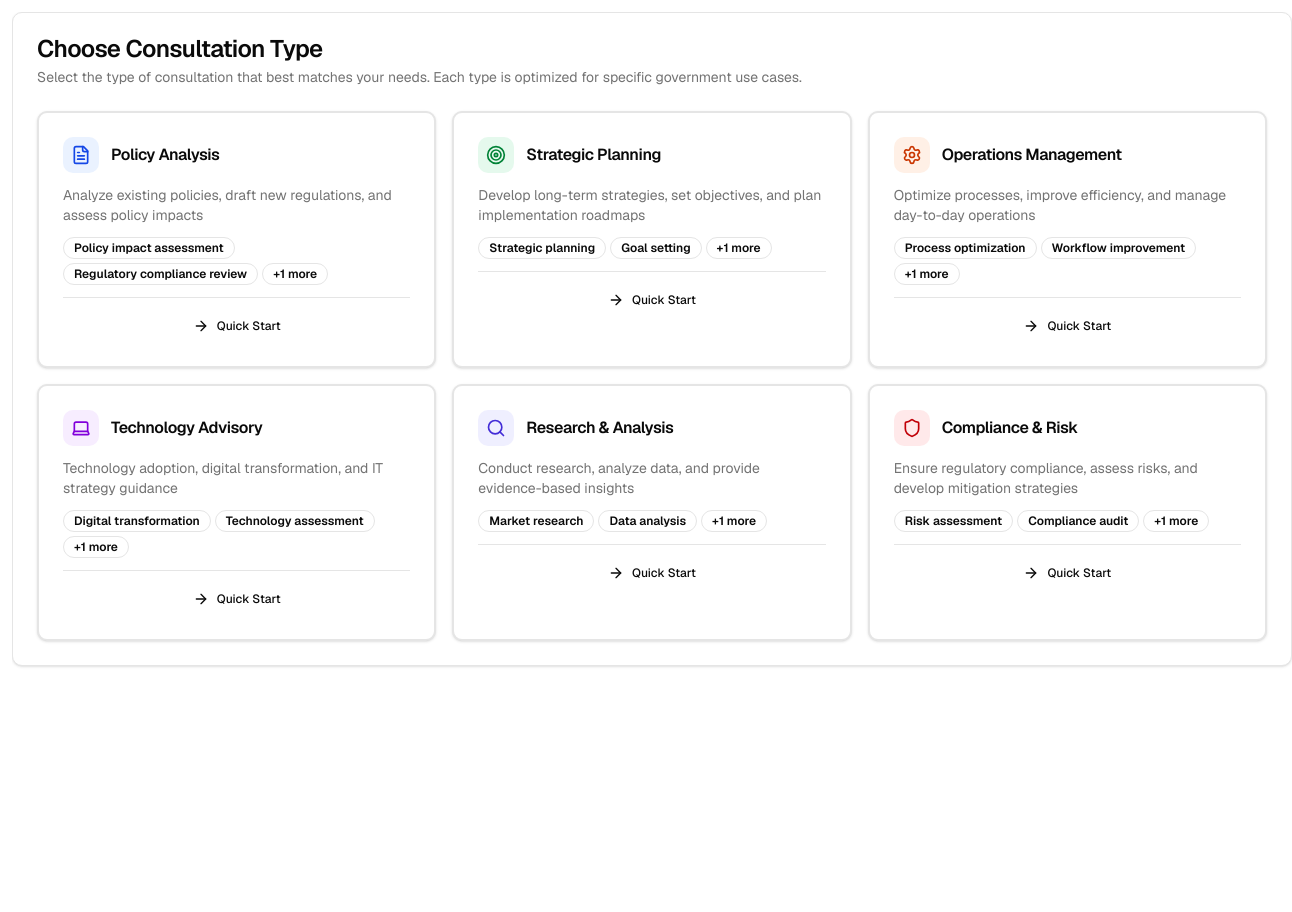
Scenario: ConsultationTypeSelector › disables start button when title is empty
Click the text "Policy Analysis".
click(165, 154)  # box [111, 144, 219, 165]
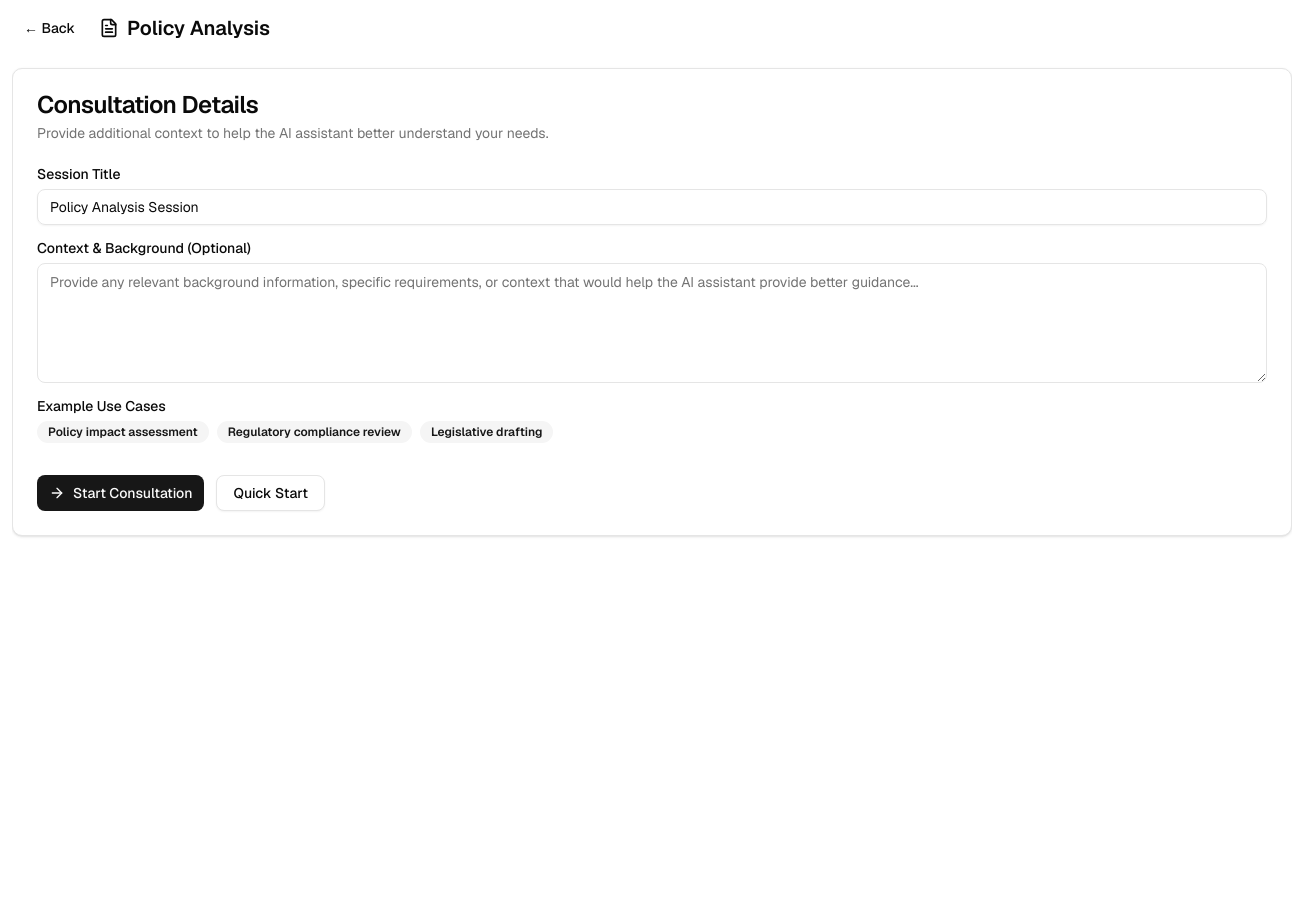
Expected: the field labelled "Session Title" is shown
Clear title
Clear the field labelled "Session Title" at [652, 207], box [37, 189, 1267, 225]
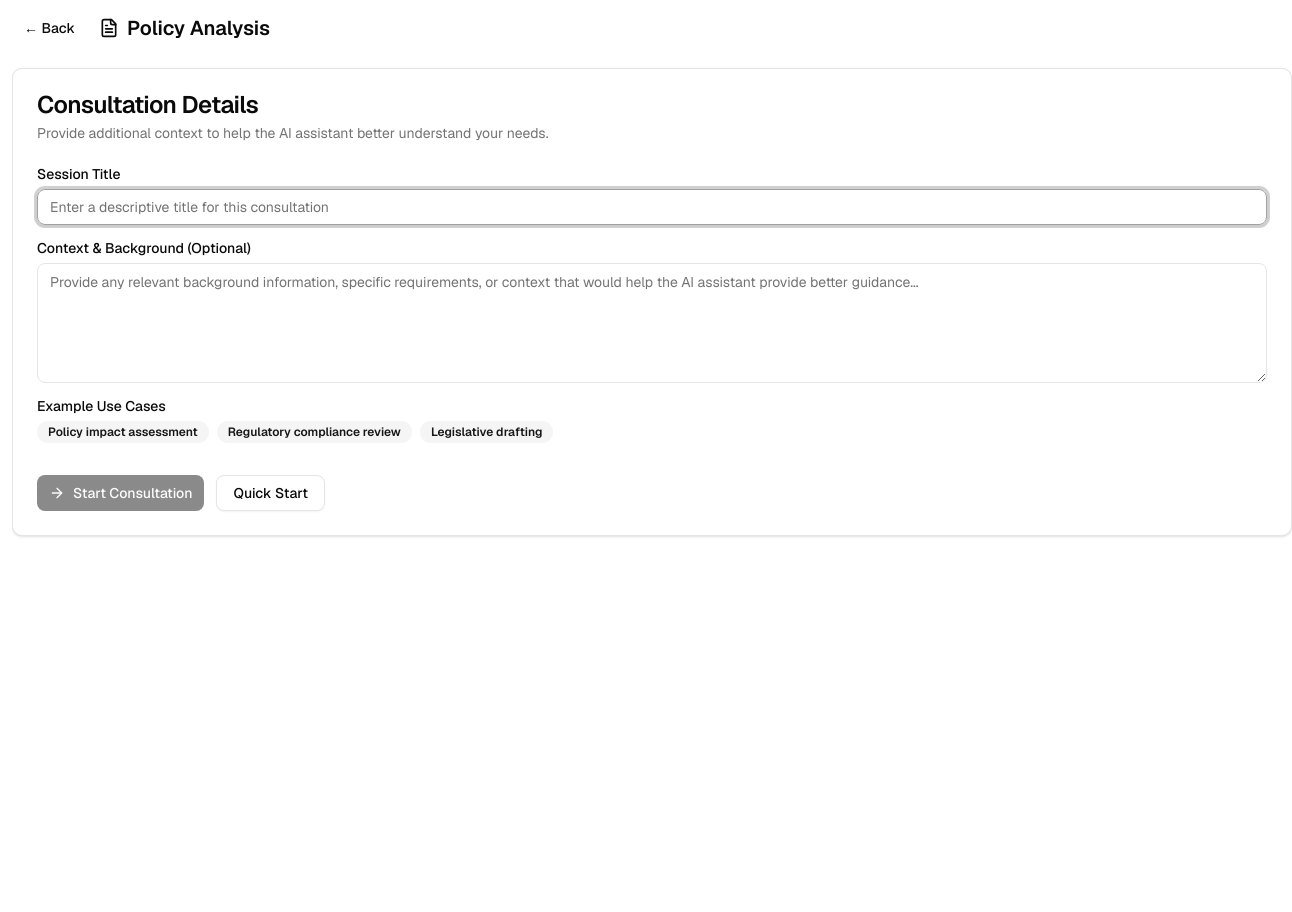
Expected: the button "Start Consultation" is disabled, [37, 475, 204, 511]
